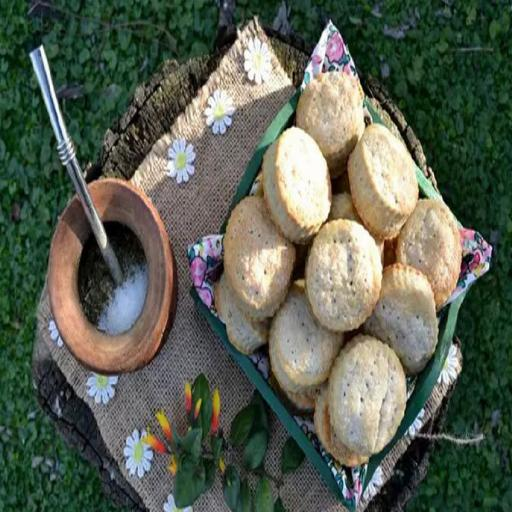bolleria: (216, 73, 461, 466)
mate: (33, 136, 177, 380)
